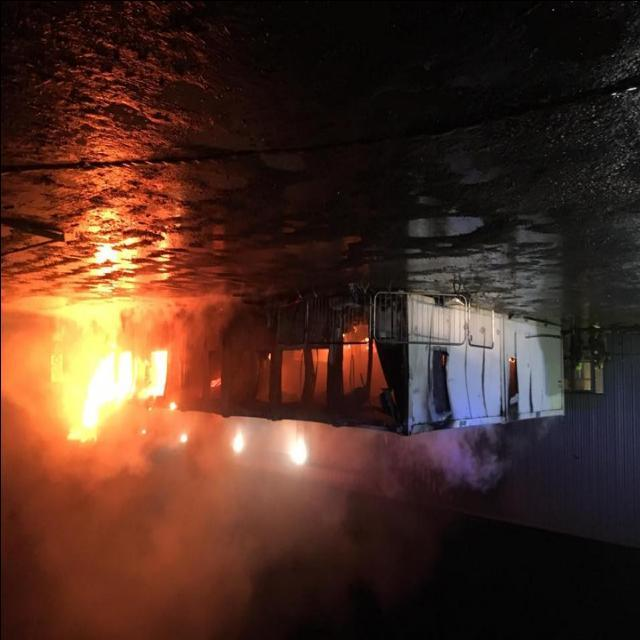Fire: (22, 300, 172, 458)
